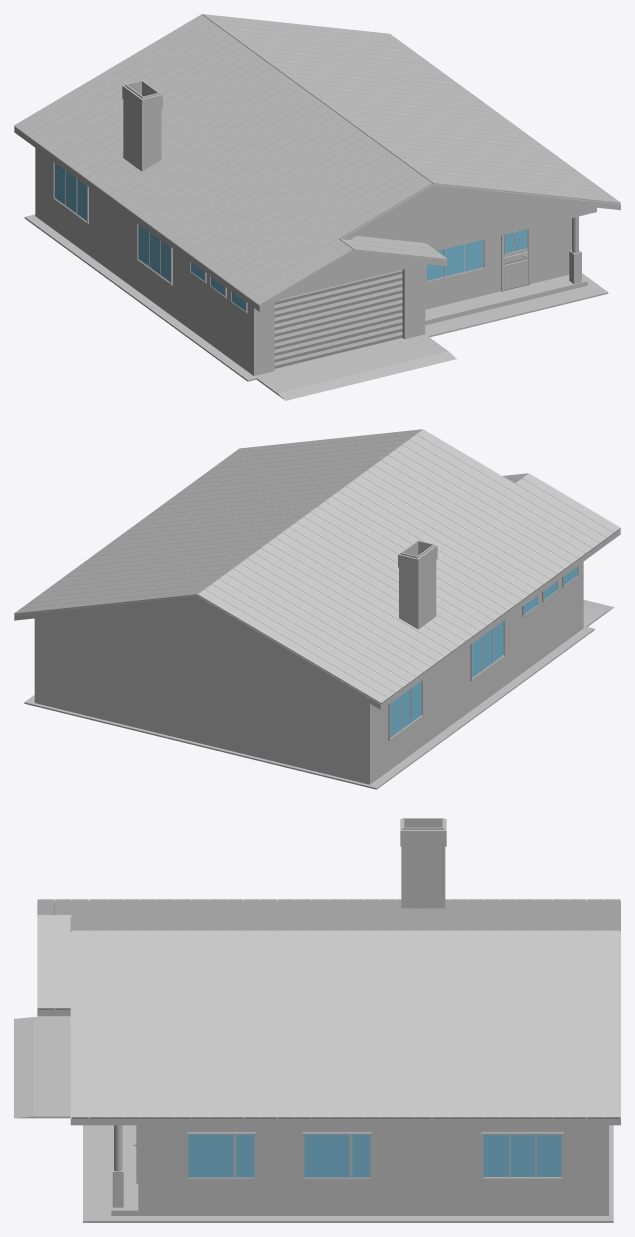
File: House_08.gltf
3 renders of one model, top to bottom at view 1: azimuth 30°, elevation 25°; view 2: azimuth 150°, elevation 25°; view 3: azimuth 270°, elevation 25°, orthographic. The views are drawn at different scales.
Visible parts, largest first — view 1: Hous_08; view 2: Hous_08; view 3: Hous_08.
Boxes of the visible parts, x1,y1,x2,y2 form: Hous_08: (14, 14, 620, 400); Hous_08: (14, 429, 620, 789); Hous_08: (14, 818, 620, 1222).
Bounding box in the file's own units: 13.16 × 5.98 × 15.48.
